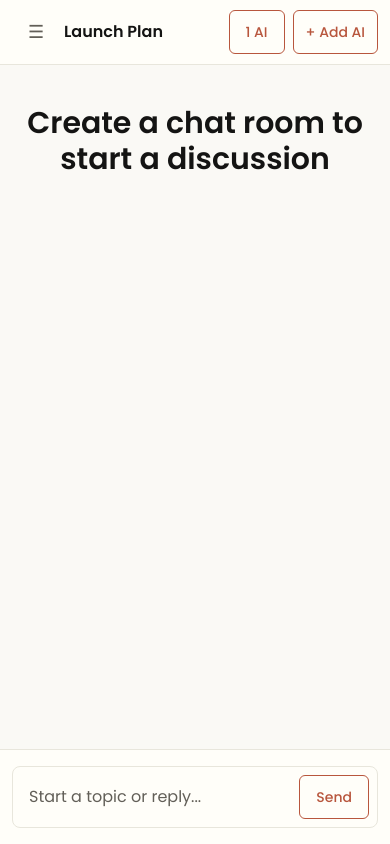
Test: ChatShell › opens edit from the mobile AI instance list
The image size is (390, 844).
Click the button with aria-label "Show added AI instances".
click(256, 32)  # box [228,10,284,54]
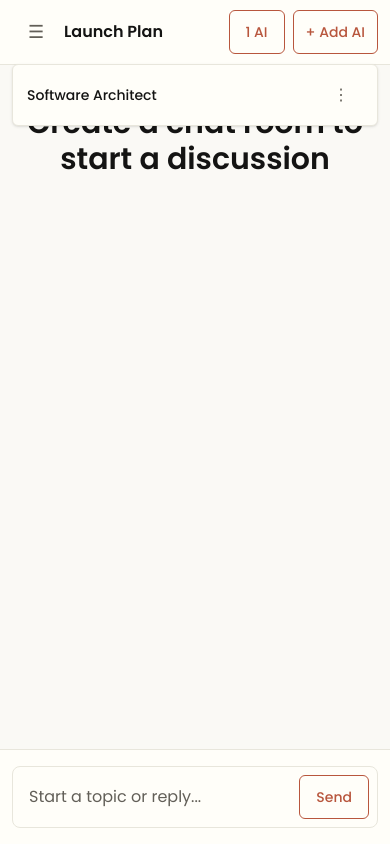
Click the button named "Software Architect options".
click(341, 95)  # box [319,73,363,117]
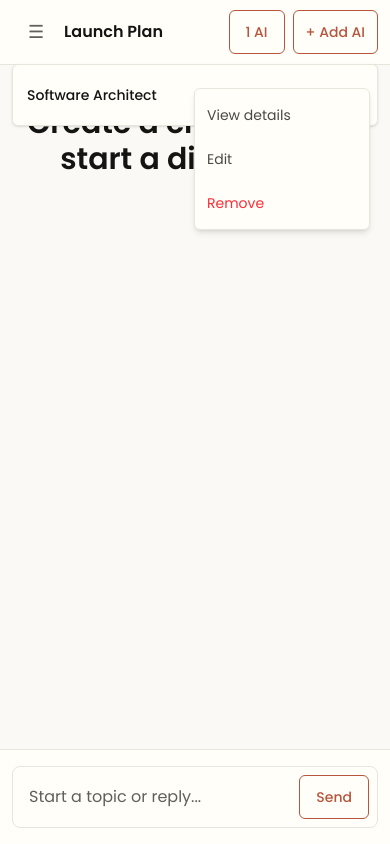
Click the button "Edit".
click(282, 159)  # box [195,137,369,181]
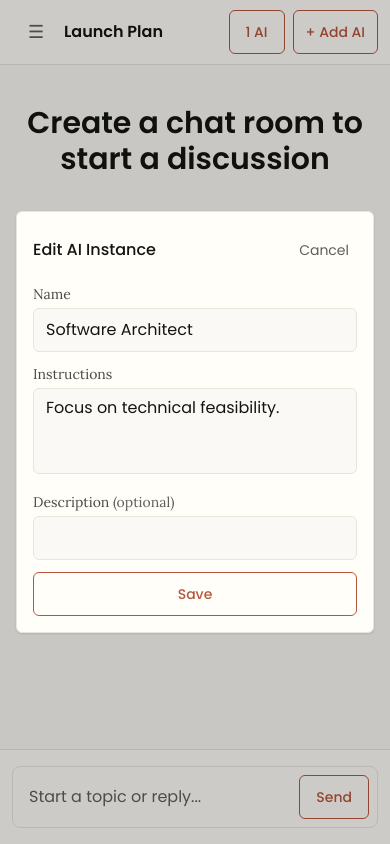
Check: the dialog "Edit AI Instance" is shown, box [16,211,374,633]
